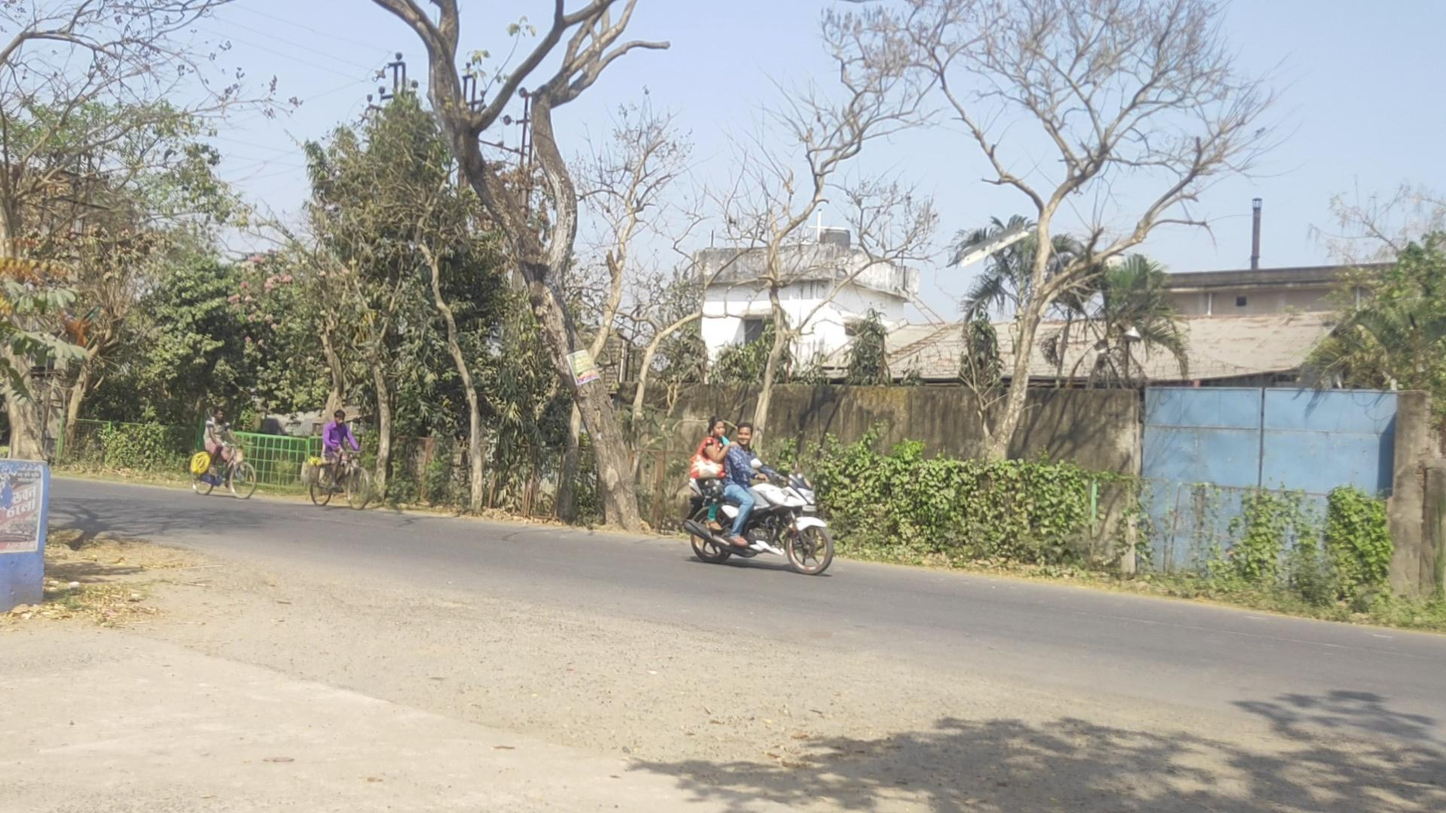bike: (680, 416, 834, 575), (302, 411, 370, 511), (189, 410, 257, 500)
